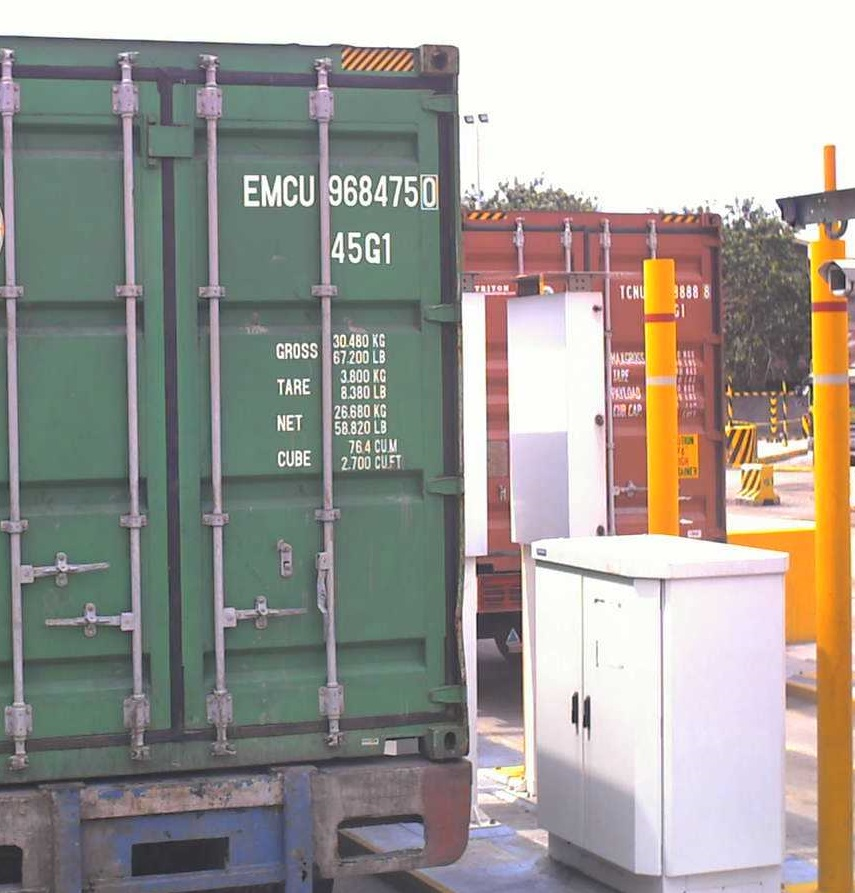container_door: (2, 33, 469, 766)
